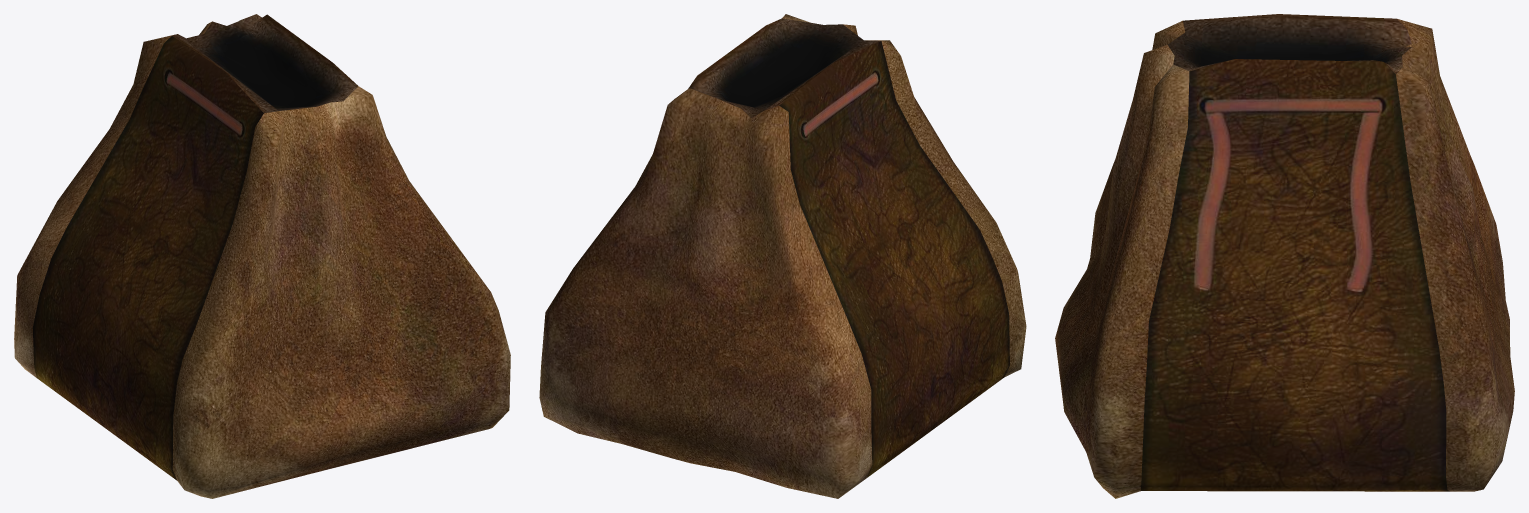
The model's file is pouch_leather.glb.
3 renders of one model, left to right at view 1: azimuth 30°, elevation 25°; view 2: azimuth 150°, elevation 25°; view 3: azimuth 270°, elevation 25°, orthographic. The views are drawn at different scales.
Parts seen in each view (by area): view 1: Bag_LP_Standardmaterial_0; view 2: Bag_LP_Standardmaterial_0; view 3: Bag_LP_Standardmaterial_0.
Boxes of the visible parts, <box> form: Bag_LP_Standardmaterial_0: <box>14,14,510,498</box>; Bag_LP_Standardmaterial_0: <box>539,14,1026,498</box>; Bag_LP_Standardmaterial_0: <box>1055,14,1514,498</box>.
Bounding box in the file's own units: 12.26 × 12.68 × 13.63.
1 material, 1 textured.
